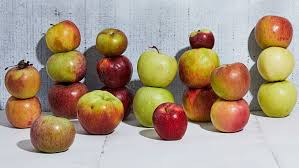apple: (127, 85, 177, 125), (211, 95, 256, 137), (137, 45, 178, 91), (43, 74, 85, 118), (79, 94, 122, 136), (174, 50, 222, 87), (212, 64, 256, 100), (42, 51, 85, 87), (183, 87, 224, 124), (254, 16, 295, 53), (153, 102, 190, 142), (258, 84, 298, 118), (258, 49, 296, 80), (7, 61, 43, 93), (93, 28, 132, 57), (8, 96, 41, 127), (186, 28, 219, 52)
